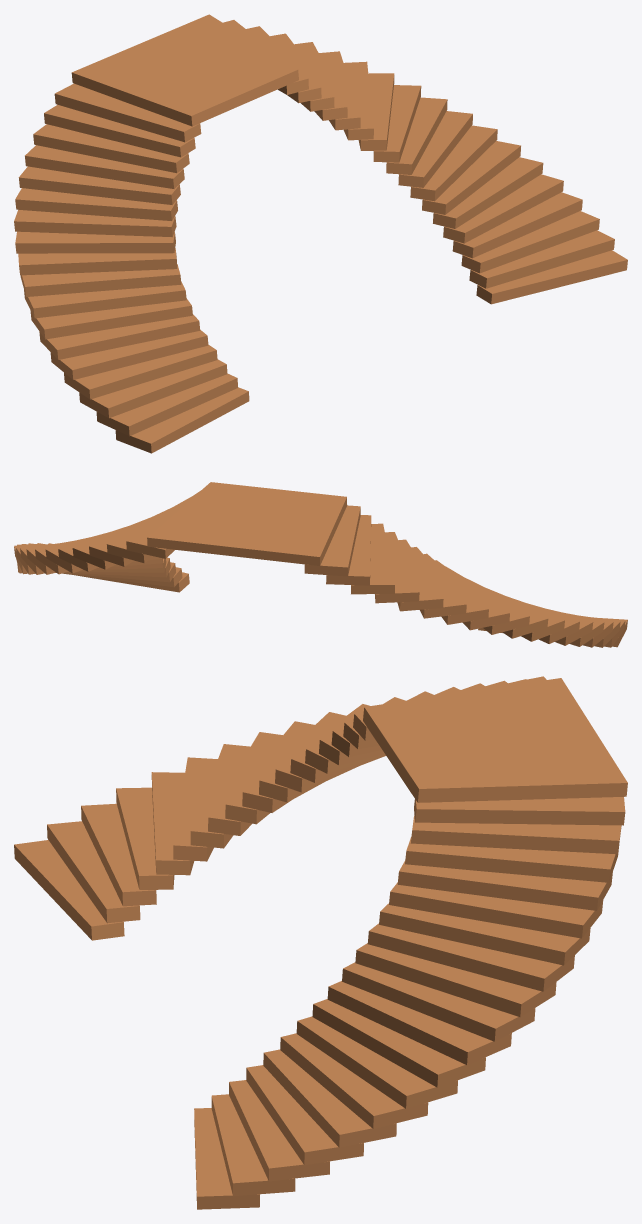
The model's file is schody.fbx.
3 renders of one model, top to bottom at view 1: azimuth 30°, elevation 25°; view 2: azimuth 150°, elevation 25°; view 3: azimuth 270°, elevation 25°, orthographic. The views are drawn at different scales.
Visible parts, largest first — view 1: s1; view 2: s1; view 3: s1.
Part boxes in pixels (x1,y1,x2,y2): s1: (14, 14, 627, 453); s1: (14, 482, 627, 647); s1: (14, 676, 627, 1209).
Bounding box in the file's own units: 10.92 × 3.61 × 7.64.
